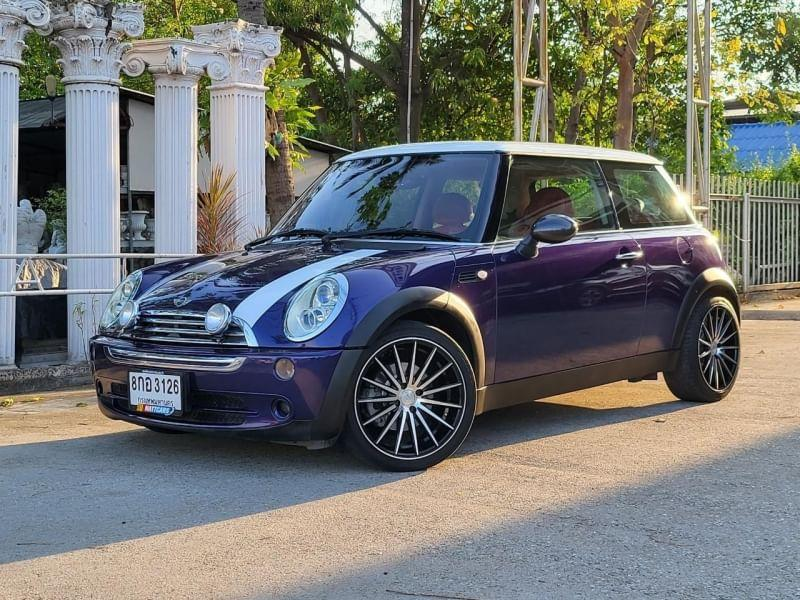license-plate: (119, 365, 191, 426)
